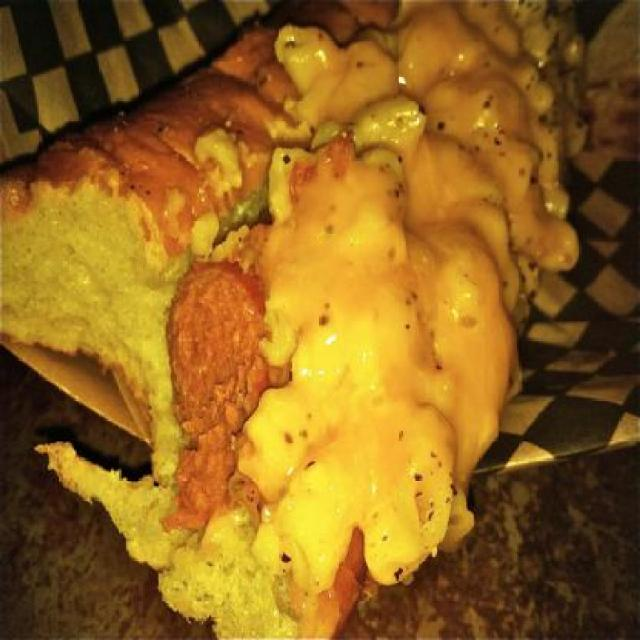hot dog: (146, 165, 300, 540)
macaroni and cheese: (274, 4, 580, 516)
